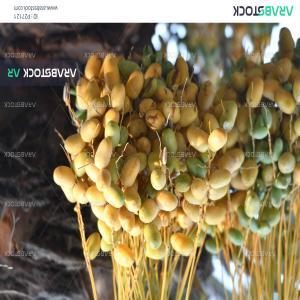palm tree: (53, 28, 299, 299)
